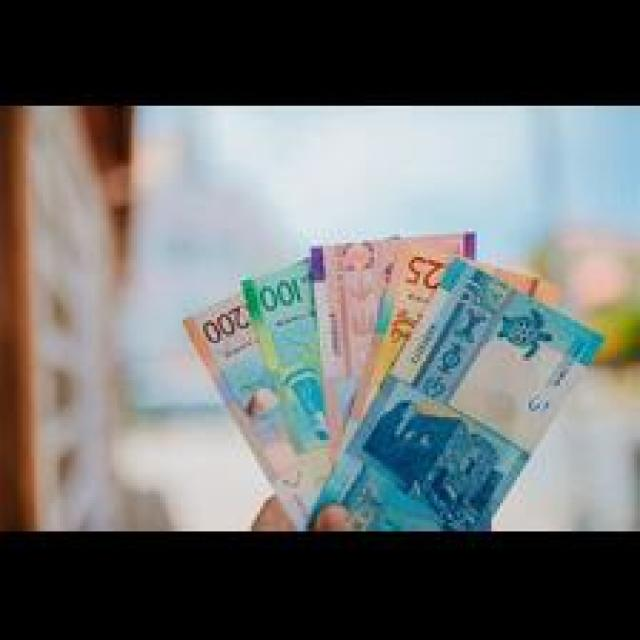banknote: (308, 259, 614, 530), (329, 244, 566, 530), (315, 226, 474, 531), (180, 228, 314, 532), (238, 227, 338, 528)
